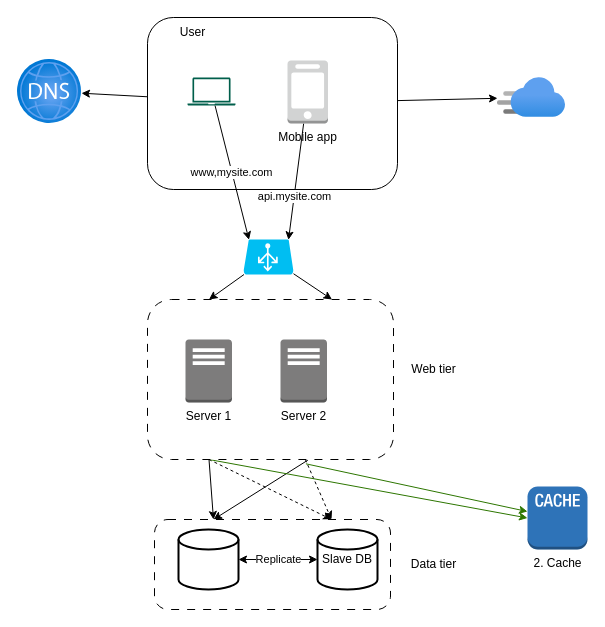
Image size: 605x627. Some labels were removed from this diagram. The shapes that lost their labels are listed below. From the top down, each one's centre as x and y in pixels, then its label:
At pixel 211 91: "Web browser".
At pixel 531 97: "1. CDN".
At pixel 208 559: "Master DB".
